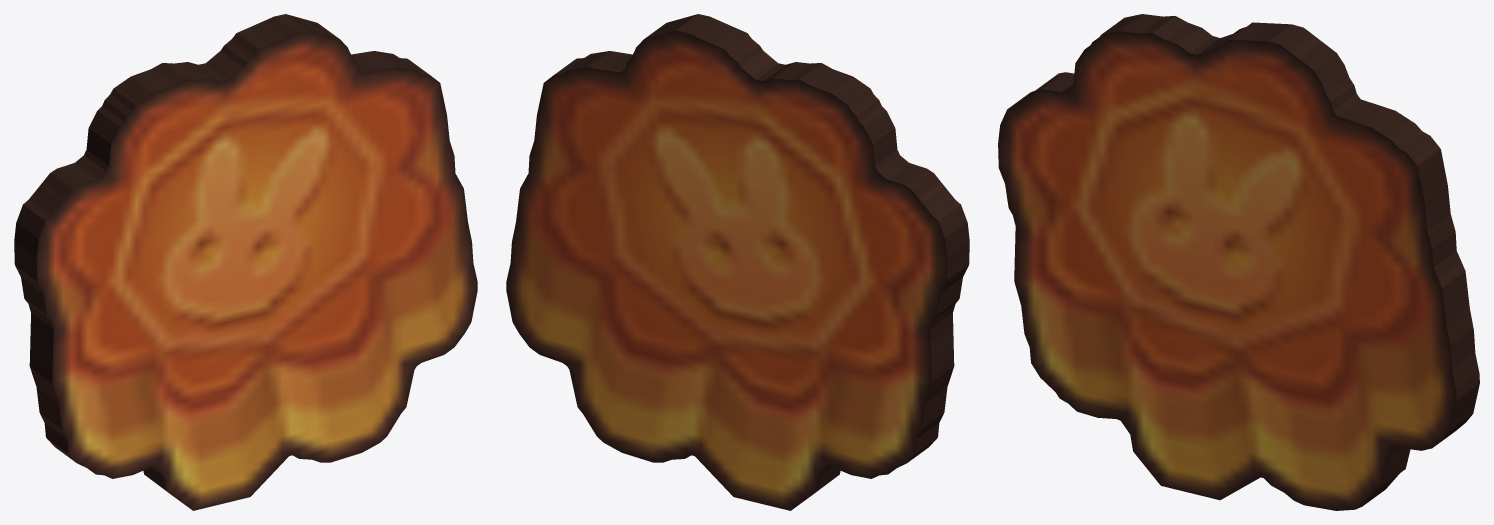
File: rabbit_cake.glb
The picture shows the model from 3 angles, left to right: view 1: azimuth 30°, elevation 25°; view 2: azimuth 150°, elevation 25°; view 3: azimuth 330°, elevation 25°; orthographic projection. The views are drawn at different scales.
Parts seen in each view (by area): view 1: world; view 2: world; view 3: world.
Part boxes in pixels (x1=…): world: x1=14, y1=14, x2=477, y2=510; world: x1=506, y1=14, x2=969, y2=510; world: x1=998, y1=14, x2=1479, y2=510.
Bounding box in the file's own units: 0.8495 × 0.8332 × 0.075.
1 material, 1 textured.
